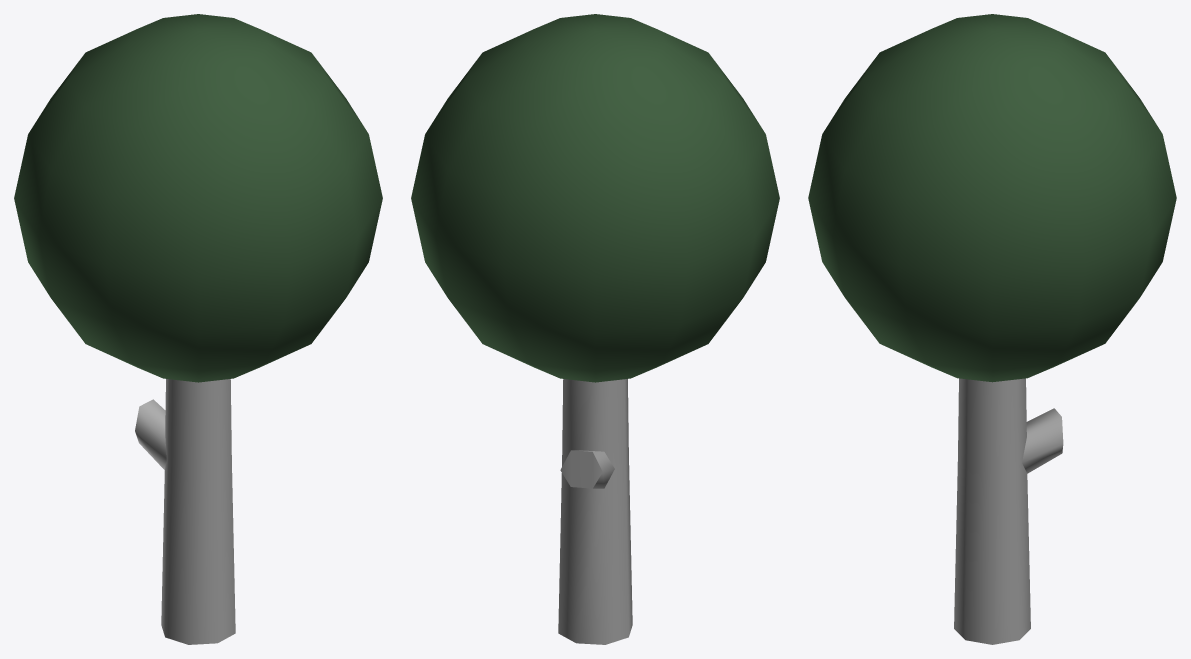
The model's file is arbre01.fbx.
3 renders of one model, left to right at view 1: azimuth 30°, elevation 25°; view 2: azimuth 150°, elevation 25°; view 3: azimuth 270°, elevation 25°, orthographic.
Parts seen in each view (by area): view 1: arbre01; view 2: arbre01; view 3: arbre01.
Part boxes in pixels (x1,y1,x2,y2): arbre01: (14,14,382,644); arbre01: (411,14,779,644); arbre01: (808,14,1176,644).
Size of the model in its own units: 5.16 by 9.23 by 5.16.
